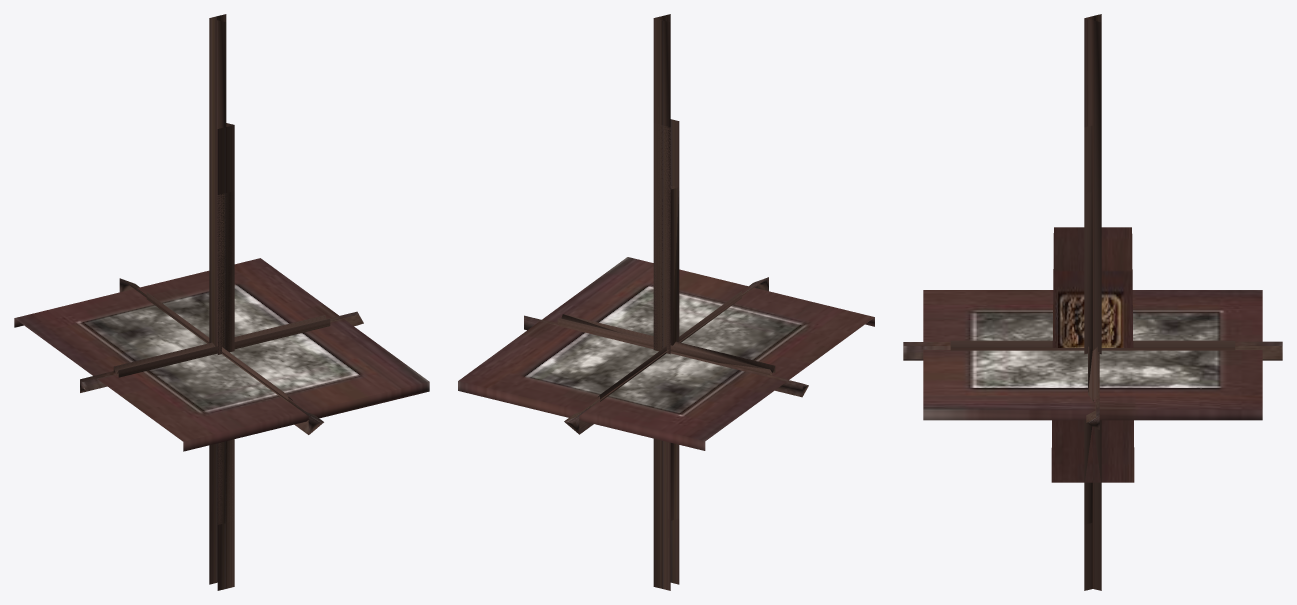
The model's file is Chair02.obj.
The picture shows the model from 3 angles, left to right: view 1: azimuth 30°, elevation 25°; view 2: azimuth 150°, elevation 25°; view 3: azimuth 270°, elevation 25°; orthographic projection.
Visible parts, largest first — view 1: 0, 8, 12, 9, 4, 11, 10, 6, 5, 2; view 2: 0, 11, 9, 12, 10, 8, 1, 4, 6, 5; view 3: 0, 3, 9, 7, 12, 5, 11, 8.
Part boxes in pixels (x1,y1,x2,y2): 0: [14, 258, 429, 451]; 8: [217, 123, 234, 590]; 12: [217, 191, 234, 524]; 9: [209, 14, 226, 346]; 4: [116, 319, 330, 377]; 11: [209, 443, 217, 584]; 10: [113, 315, 326, 375]; 6: [146, 292, 292, 402]; 5: [119, 278, 323, 434]; 2: [80, 311, 363, 392]; 0: [458, 257, 874, 450]; 11: [653, 123, 670, 590]; 9: [653, 14, 670, 352]; 12: [670, 185, 679, 520]; 10: [557, 318, 772, 375]; 8: [670, 119, 679, 584]; 1: [524, 315, 808, 397]; 4: [561, 314, 775, 375]; 6: [595, 291, 741, 401]; 5: [564, 277, 768, 434]; 0: [923, 290, 1262, 420]; 3: [1051, 227, 1134, 482]; 9: [1084, 14, 1101, 353]; 7: [950, 340, 1235, 350]; 12: [1084, 191, 1092, 524]; 5: [903, 341, 1282, 360]; 11: [1093, 353, 1101, 590]; 8: [1084, 125, 1092, 590].
Size of the model in its own units: 15.72 by 30.67 by 18.55.
